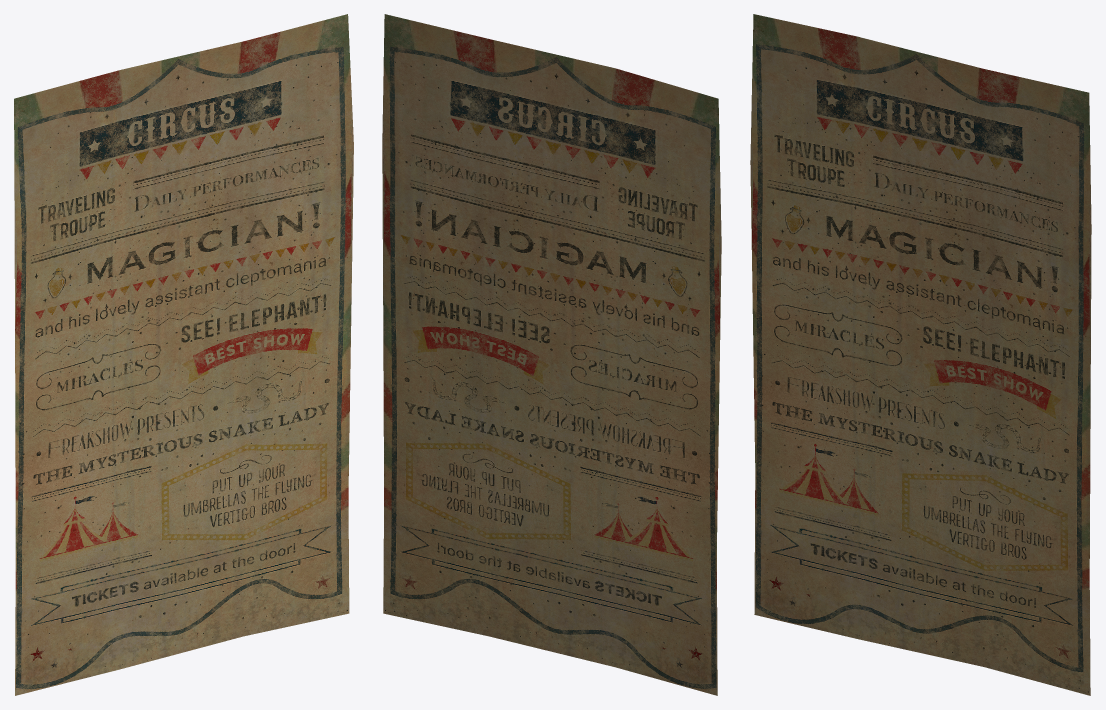
The model's file is SM_poster_01.fbx.
The picture shows the model from 3 angles, left to right: view 1: azimuth 30°, elevation 25°; view 2: azimuth 150°, elevation 25°; view 3: azimuth 330°, elevation 25°; orthographic projection.
Parts seen in each view (by area): view 1: SM_poster_01_LOD0; view 2: SM_poster_01_LOD0; view 3: SM_poster_01_LOD0.
Part boxes in pixels (<box>): SM_poster_01_LOD0: <box>14,14,353,695</box>; SM_poster_01_LOD0: <box>382,14,721,695</box>; SM_poster_01_LOD0: <box>750,14,1091,695</box>.
Size of the model in its own units: 88.13 by 1.13 by 149.
Materials: 1 (1 with a texture image).
